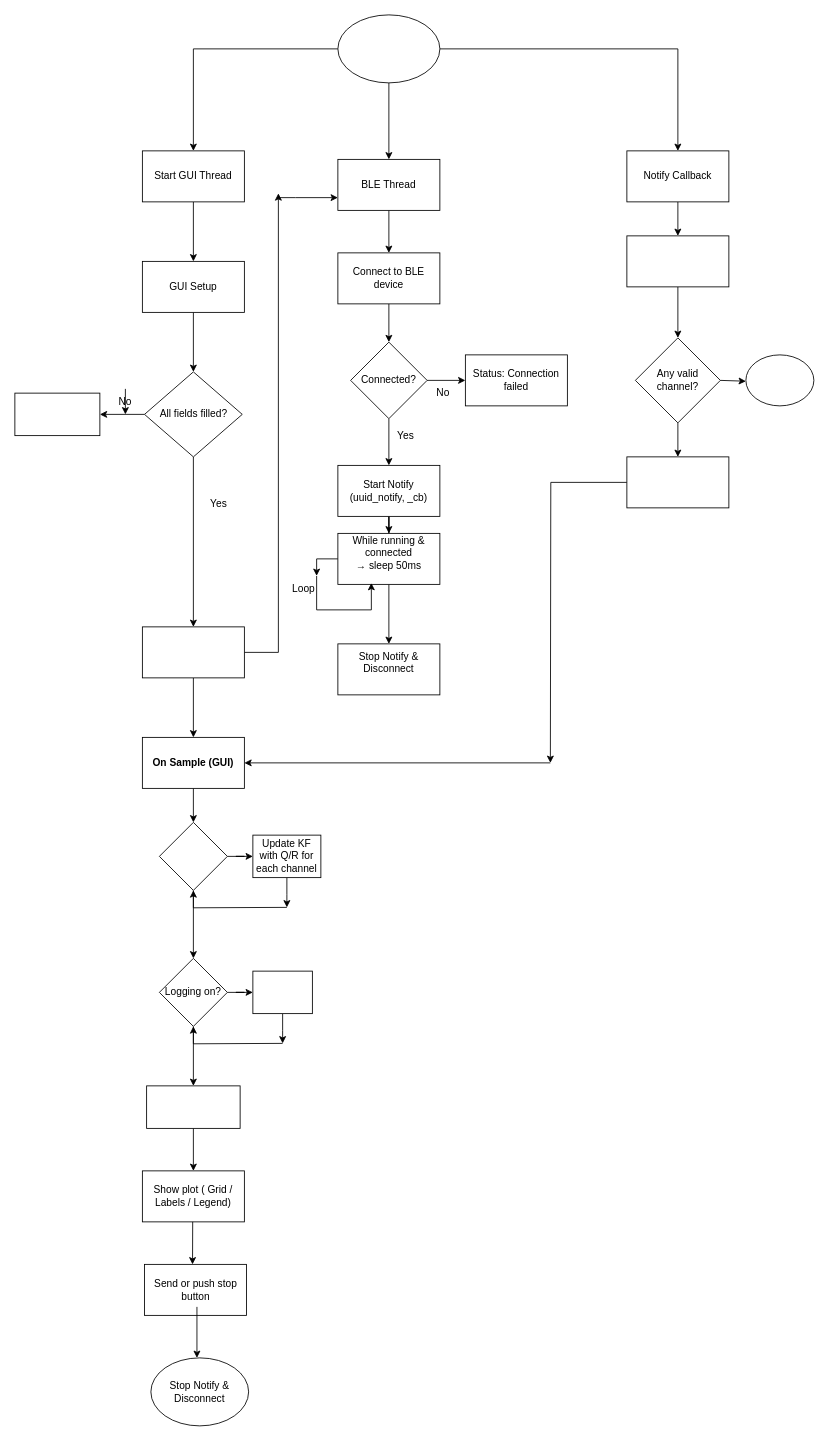
Some shapes in this 829 by 1441 pixel diagram are drawn without their labels. The box of each missing label's shape, as (x1, y1, x2, y2) in pixels:
Emit Sample: (626, 456, 729, 508)
Exit: (745, 354, 814, 406)
Kalman on?: (159, 822, 227, 890)
Parse Line (AX..GZ): (626, 235, 729, 287)
Send start: (146, 1085, 240, 1128)
Show warning: (14, 392, 100, 436)
Start: (337, 14, 440, 83)
Start BLE Thread: (142, 626, 244, 678)
Write CSV row: (252, 970, 312, 1014)
